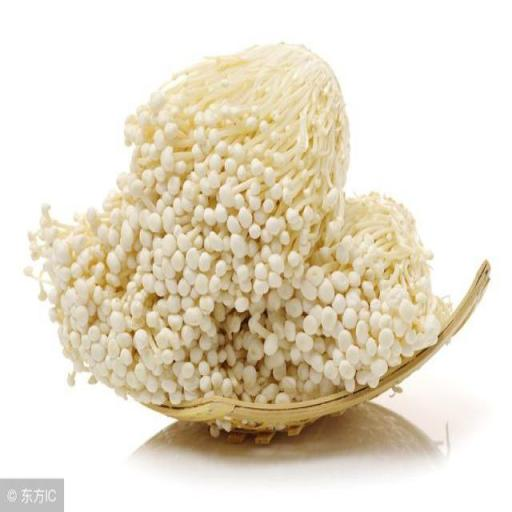Enoki Mushroom: (24, 40, 446, 406)
